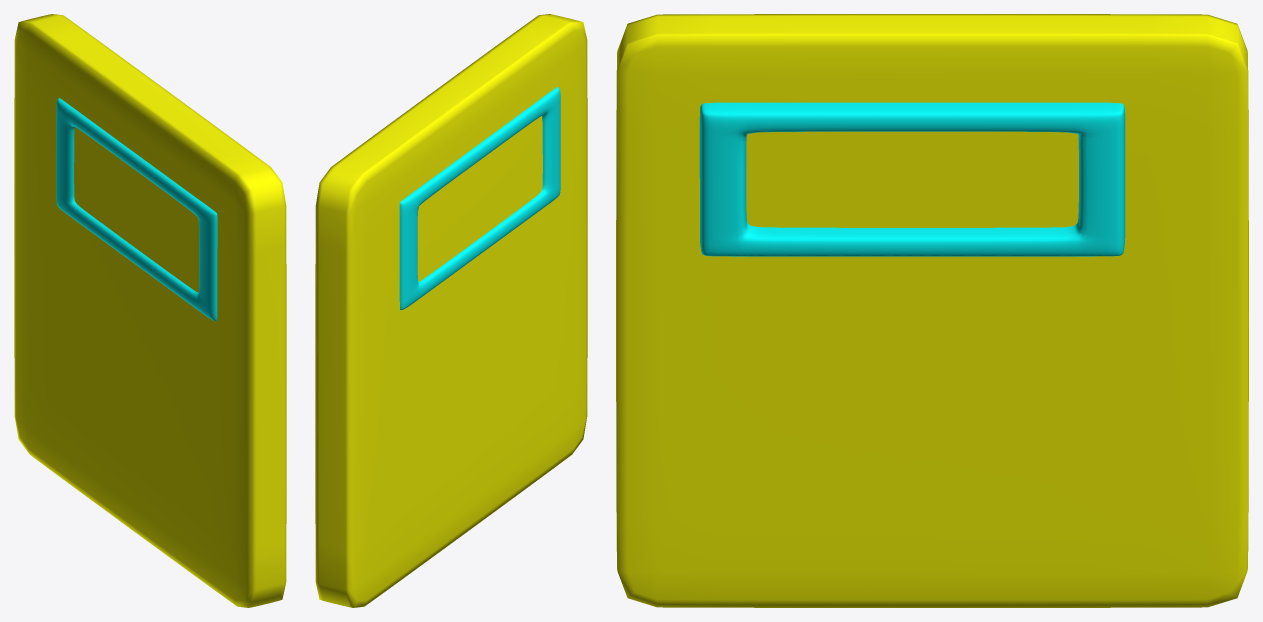
3 views of the same model, side by side, from view 1: azimuth 30°, elevation 25°; view 2: azimuth 150°, elevation 25°; view 3: azimuth 270°, elevation 25° (orthographic). The views are drawn at different scales.
Parts seen in each view (by area): view 1: polySurface966; view 2: polySurface966; view 3: polySurface966.
Boxes of the visible parts, <box> form: polySurface966: <box>14,14,286,607</box>; polySurface966: <box>315,14,587,607</box>; polySurface966: <box>616,14,1248,607</box>.
Size of the model in its own units: 0.1498 by 0.9994 by 0.9994.
